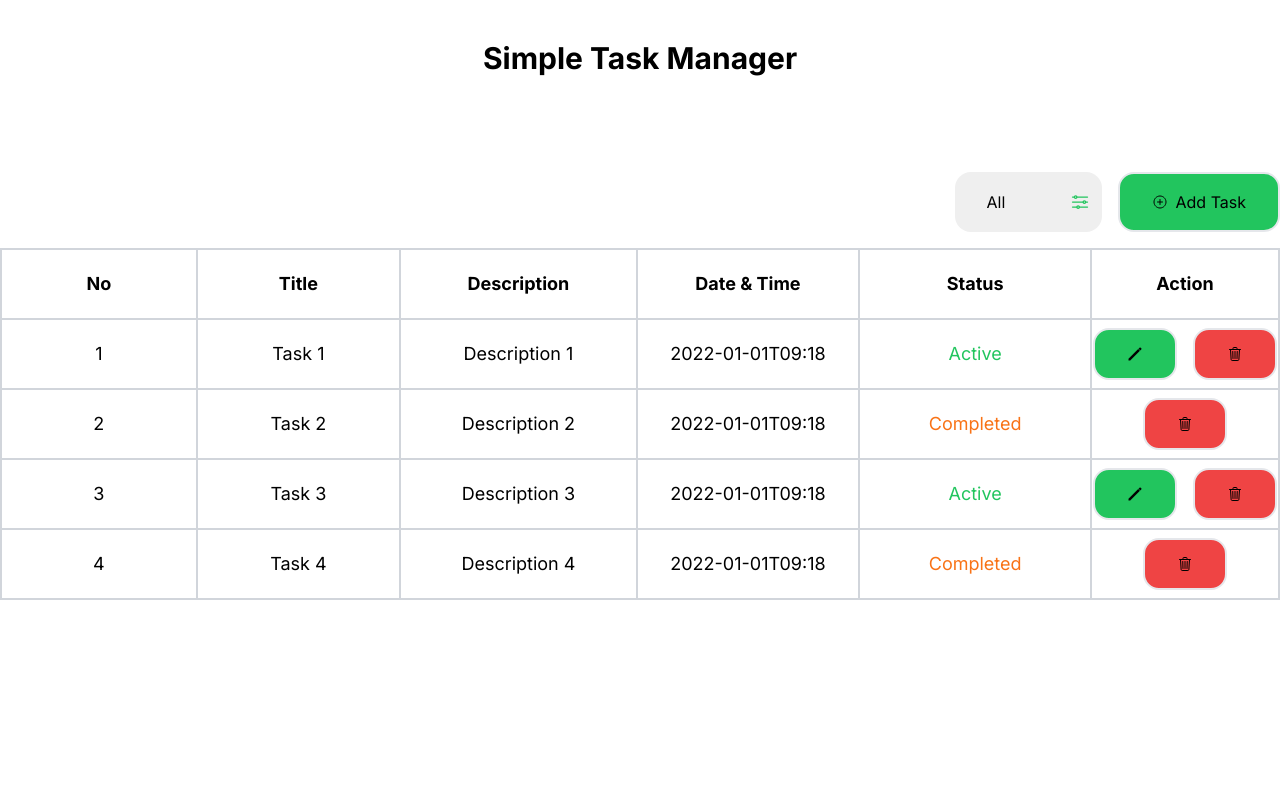
Test: Page › should add new task
Expected: the text "Task 1" is shown, [197, 319, 400, 389]
Click the button with test id "add-task" at (1199, 202), box [1118, 172, 1279, 232]
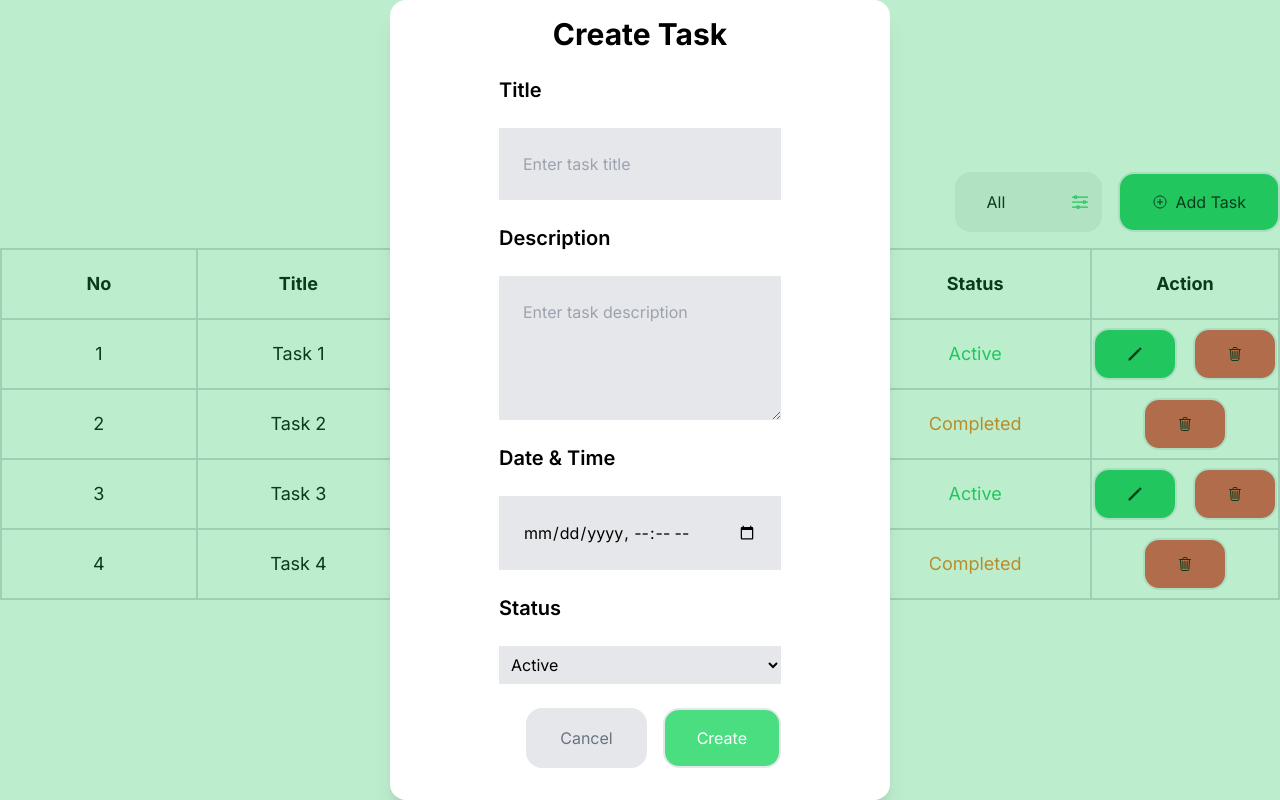
Expected: the text "Create Task" is shown, [553, 16, 727, 52]
Type "New Task" into the field with test id "title" at (640, 164), box [499, 128, 781, 200]
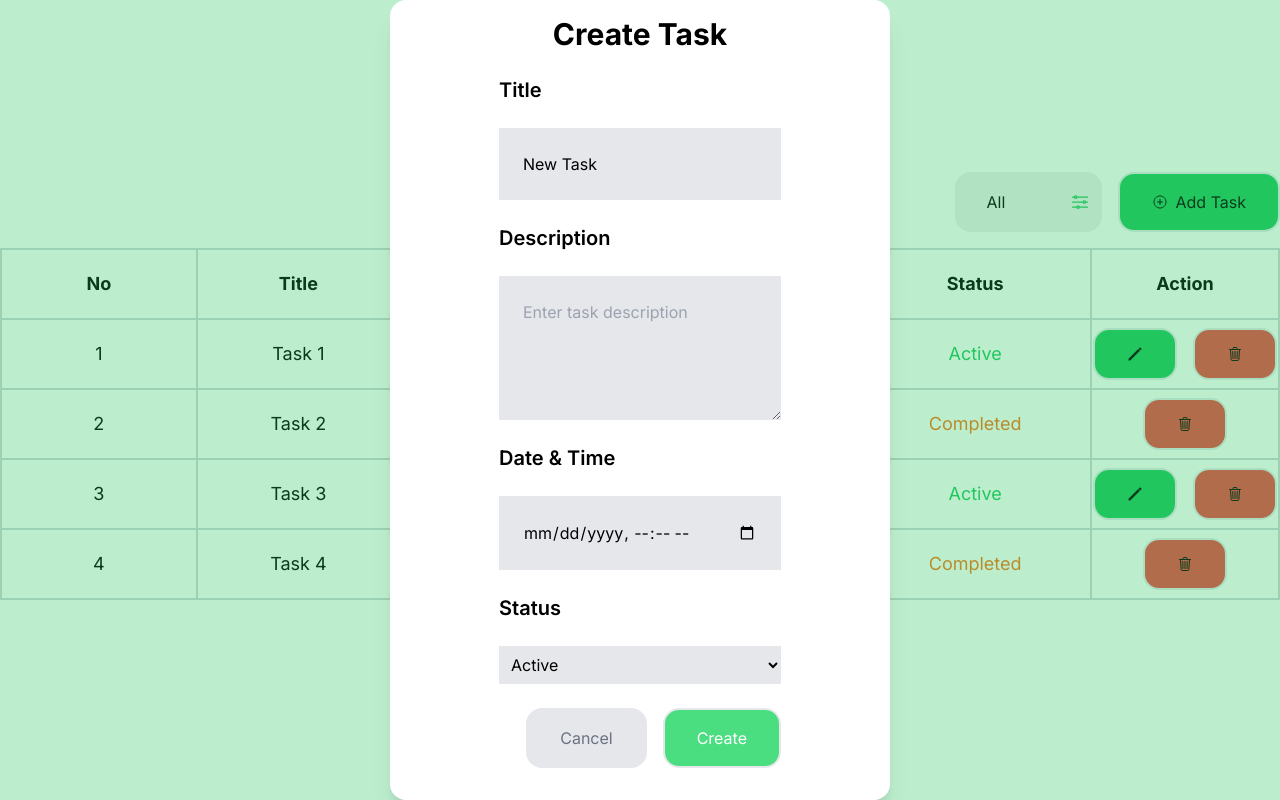
Type "This is a new task" into the text box with test id "description" at (640, 348), box [499, 276, 781, 420]
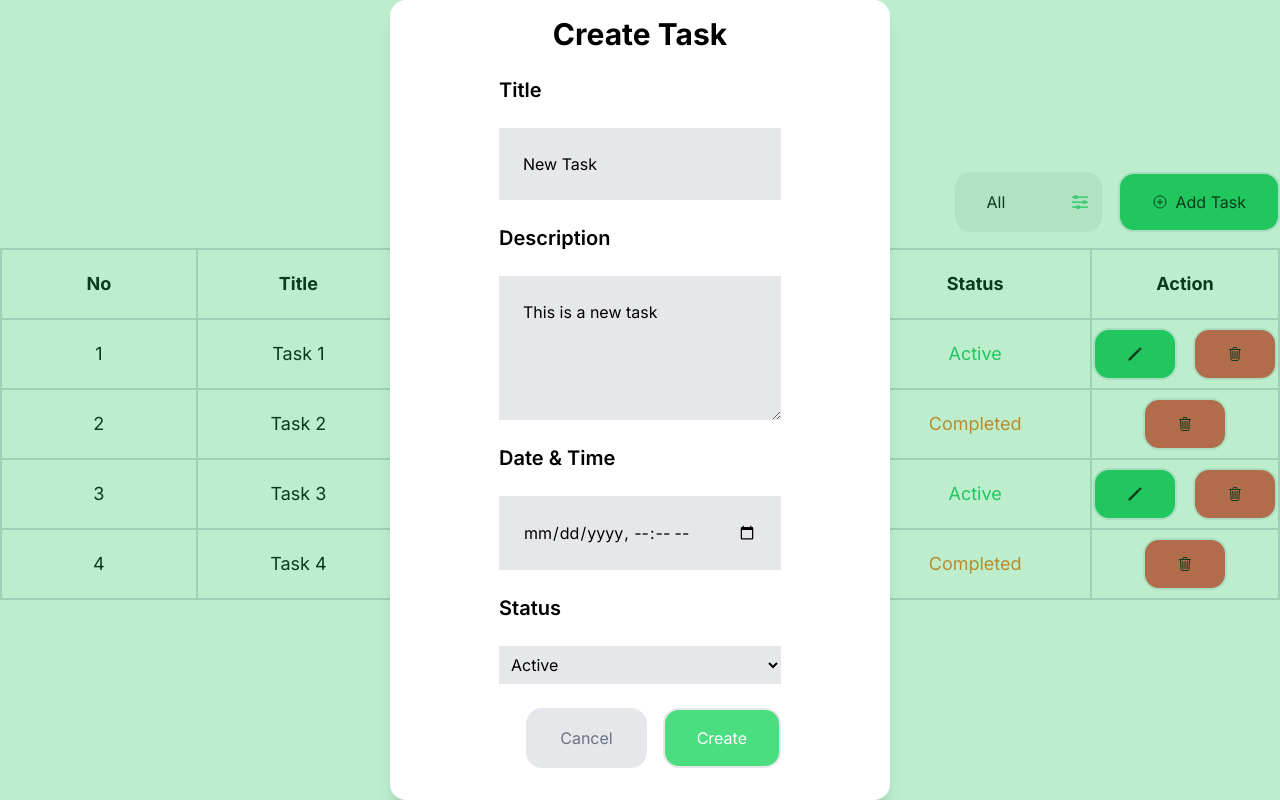
Type "2025-01-01T09:18" into the field with test id "dateTime" at (640, 533), box [499, 496, 781, 570]
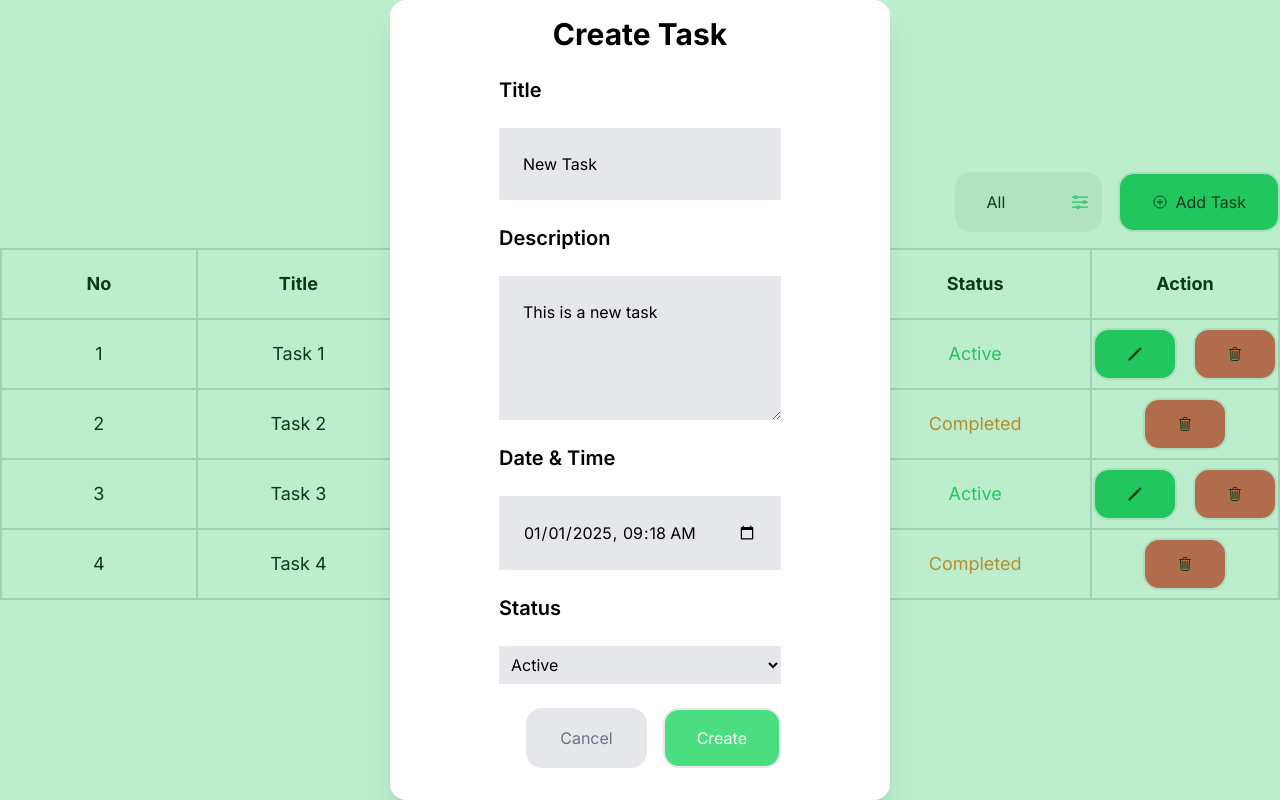
Expected: the button with test id "create-task" is shown
Submit the form from the button with test id "create-task", box [663, 708, 781, 768]
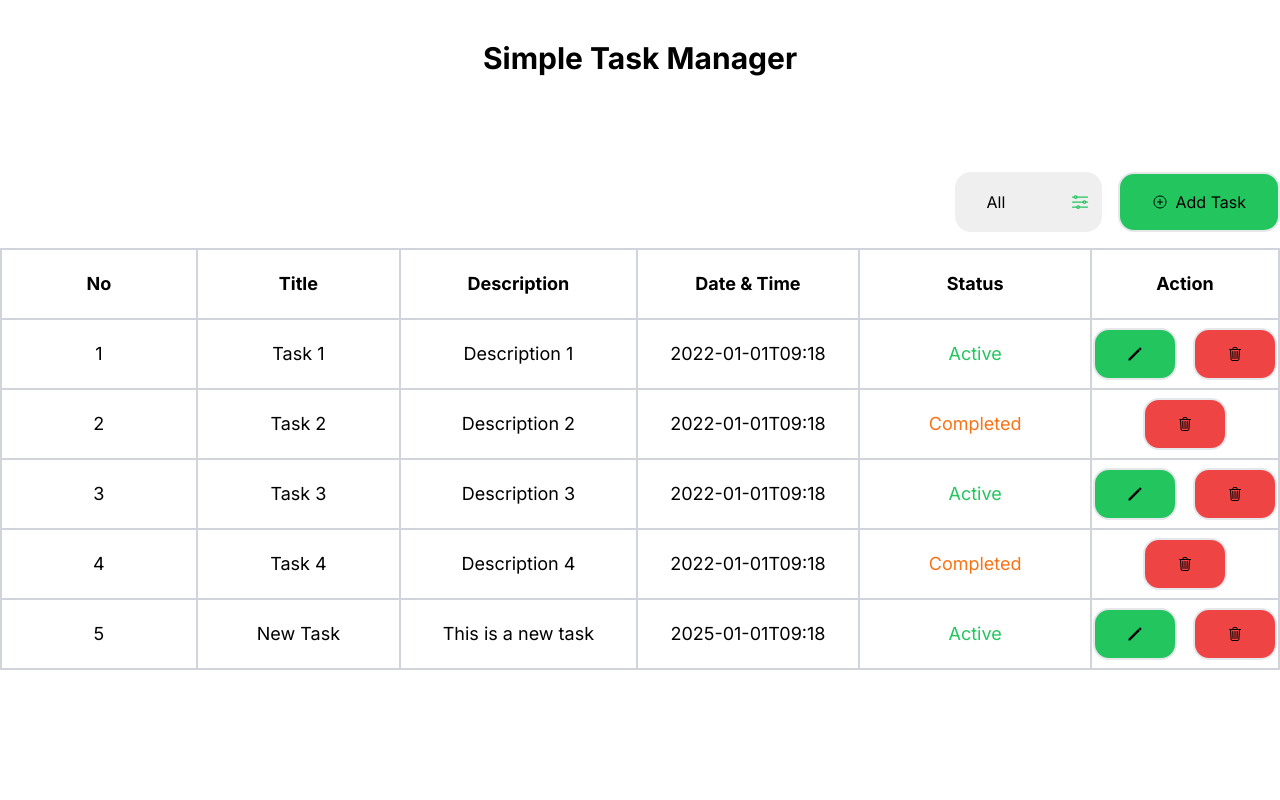
Expected: the text "New Task" is shown, [197, 599, 400, 669]
